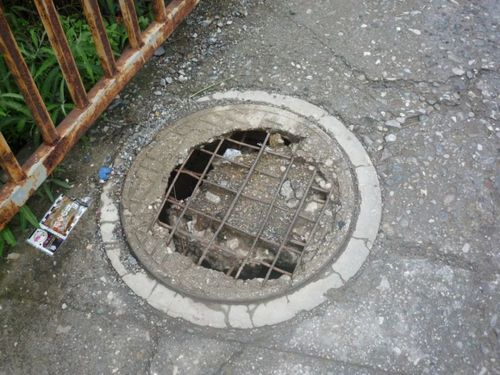broke: (103, 87, 383, 331)
